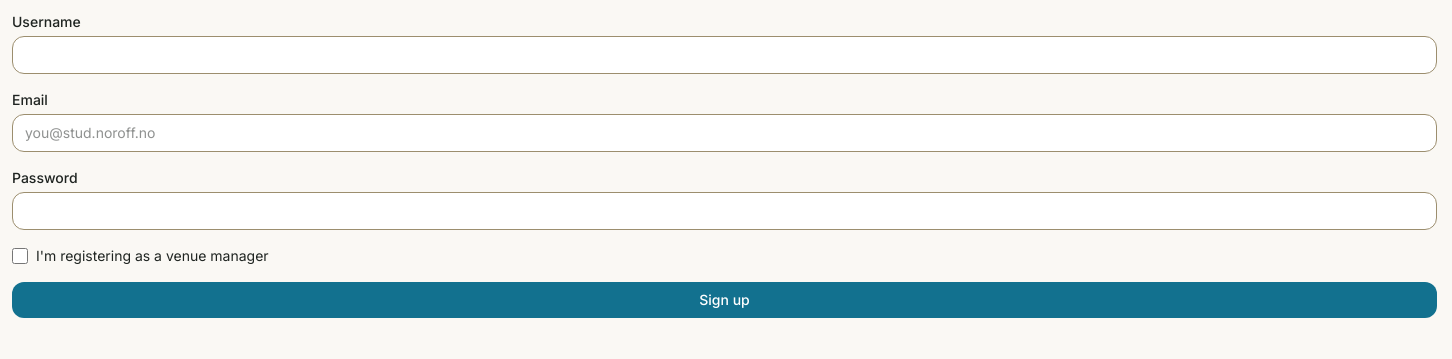
RegisterForm › rejects a non-noroff email address
In the field labelled "Username": (724, 55) [12,36,1437,74], type "jane_doe"
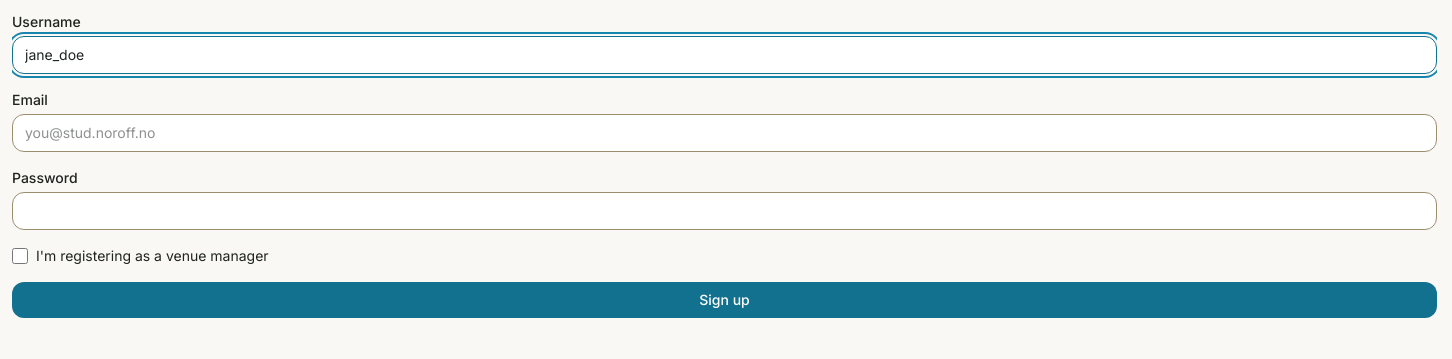
In the field labelled "Email": (724, 133) [12,114,1437,152], type "jane@gmail.com"
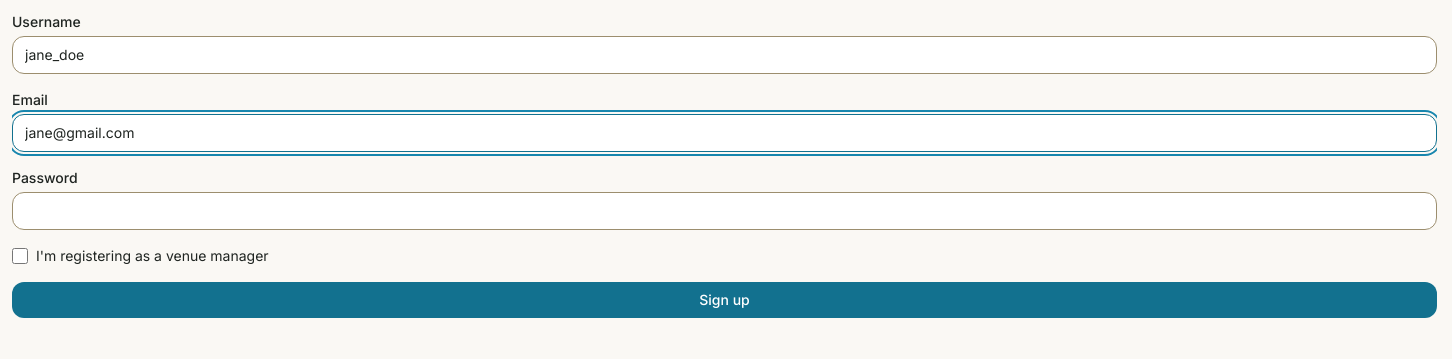
In the password field labelled "Password": (724, 211) [12,192,1437,230], type "password123"
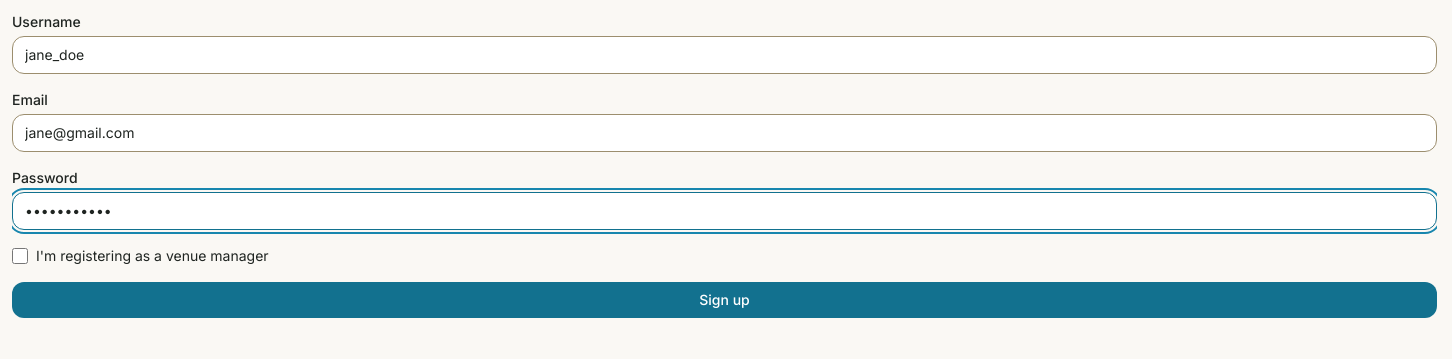
Click the button "Sign up": (724, 300) [12,282,1437,318]
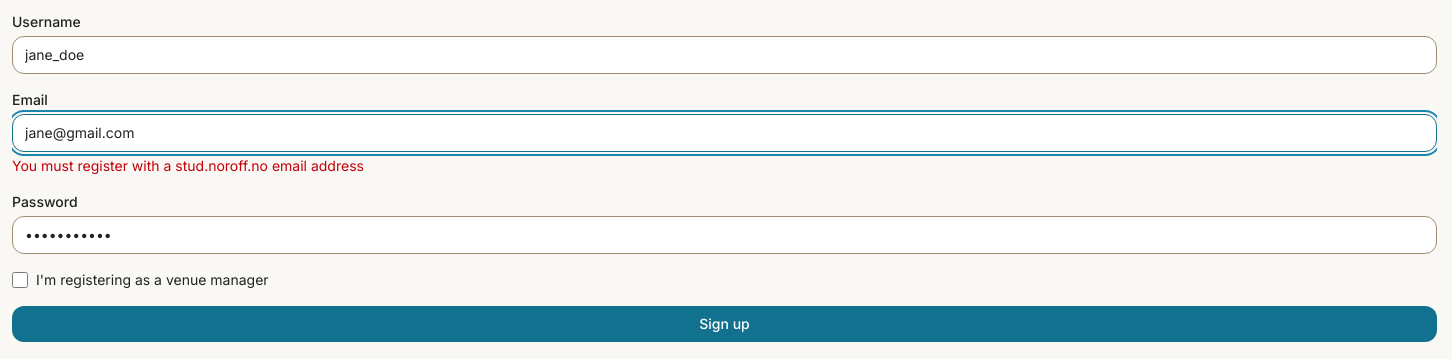
Check: the text "You must register with a stud.noroff.no email address" is shown, box [12,157,364,174]
